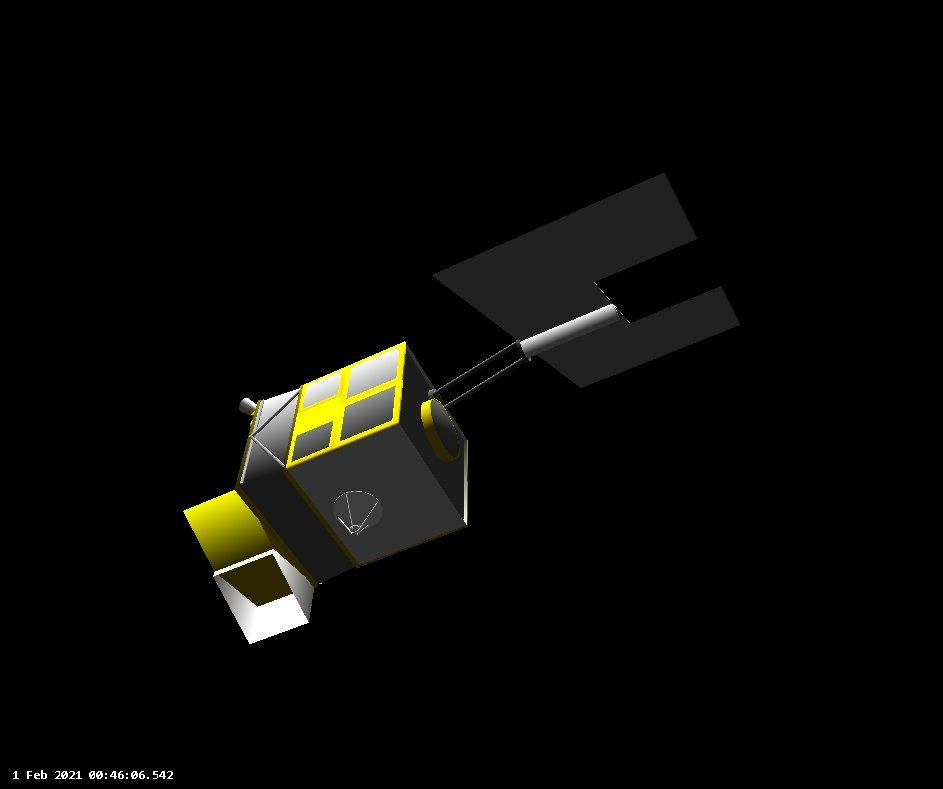antenna: (329, 487, 385, 536)
body: (230, 339, 474, 590)
solar: (429, 165, 746, 393)
thruster: (237, 393, 261, 419)
